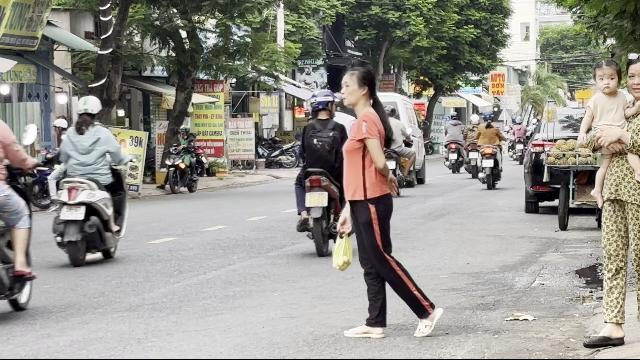helmet: (72, 94, 102, 128), (308, 88, 336, 120)
licenseplate: (60, 206, 86, 220), (305, 192, 327, 207)
motorcyclist: (46, 92, 130, 266), (288, 86, 348, 254)
